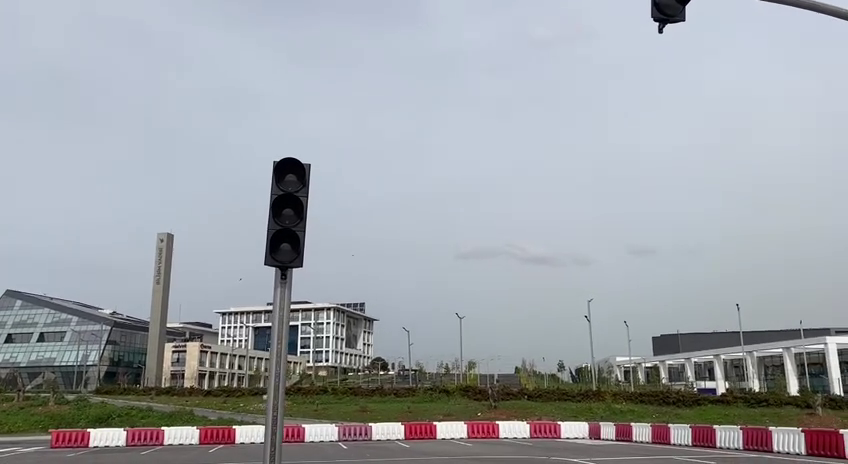trafficLight: (259, 153, 316, 274)
